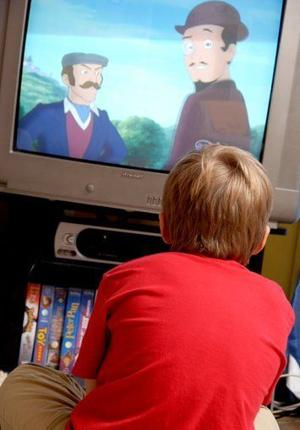person: (1, 143, 295, 430)
